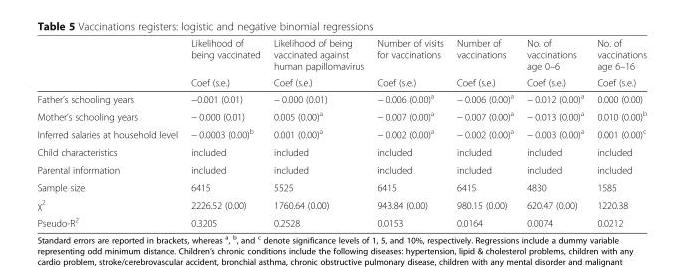table: (36, 37, 646, 228)
table column: (36, 37, 183, 228), (266, 37, 369, 228), (183, 37, 266, 228), (369, 37, 449, 228), (449, 37, 519, 228), (519, 37, 589, 228), (589, 37, 646, 228)
table column header: (36, 37, 646, 89)
table row: (36, 37, 646, 73), (36, 106, 646, 124), (36, 124, 646, 142), (36, 142, 646, 160), (36, 160, 646, 178), (36, 195, 646, 213), (36, 89, 646, 106), (36, 178, 646, 195), (36, 73, 646, 89), (36, 213, 646, 228)
table spanning cell: (266, 37, 369, 89), (183, 37, 266, 89), (369, 37, 449, 89), (449, 37, 519, 89), (519, 37, 589, 89), (589, 37, 646, 89)
